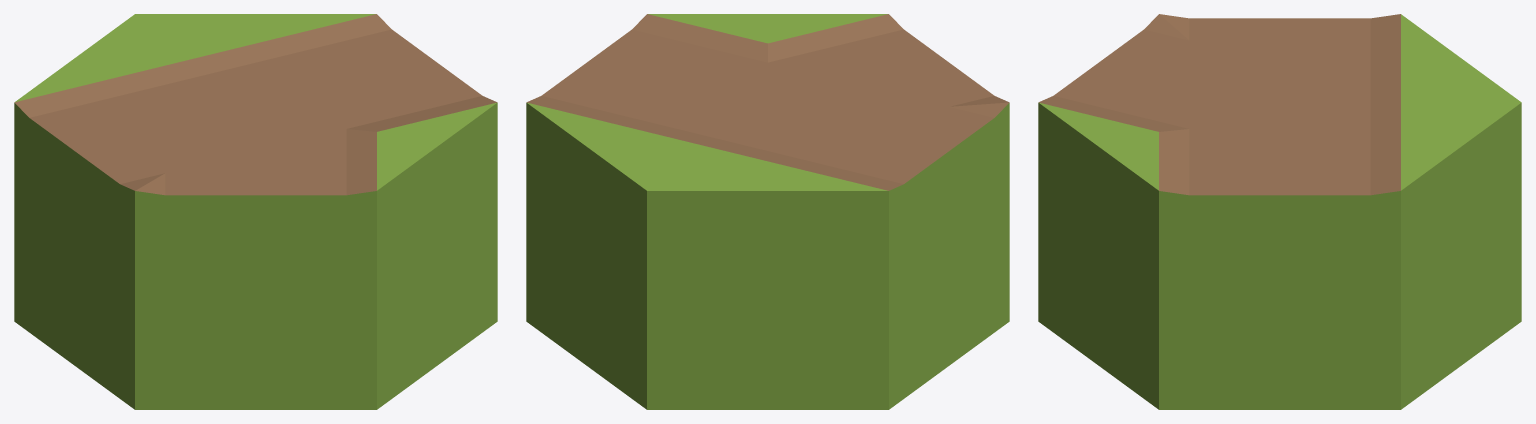
The model's file is road4.fbx.
3 views of the same model, side by side, from view 1: azimuth 30°, elevation 25°; view 2: azimuth 150°, elevation 25°; view 3: azimuth 270°, elevation 25° (orthographic).
Parts seen in each view (by area): view 1: Cylinder; view 2: Cylinder; view 3: Cylinder.
Part boxes in pixels (x1,y1,x2,y2): Cylinder: (14, 14, 497, 409); Cylinder: (526, 14, 1009, 409); Cylinder: (1038, 14, 1521, 409).
Bounding box in the file's own units: 1.73 × 1 × 2.
